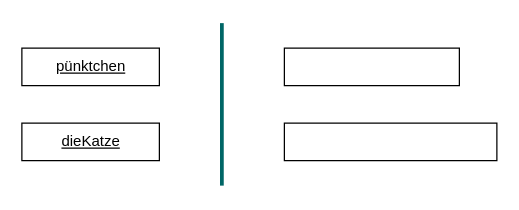
This 519x210 diagram has some shape labels left out. The box of each missing label's shape, as (x1, y1, x2, y2) in pixels:
dieKatze : Meerschweinchen: (283, 122, 497, 161)
pünktchen : Katze: (283, 47, 459, 86)
